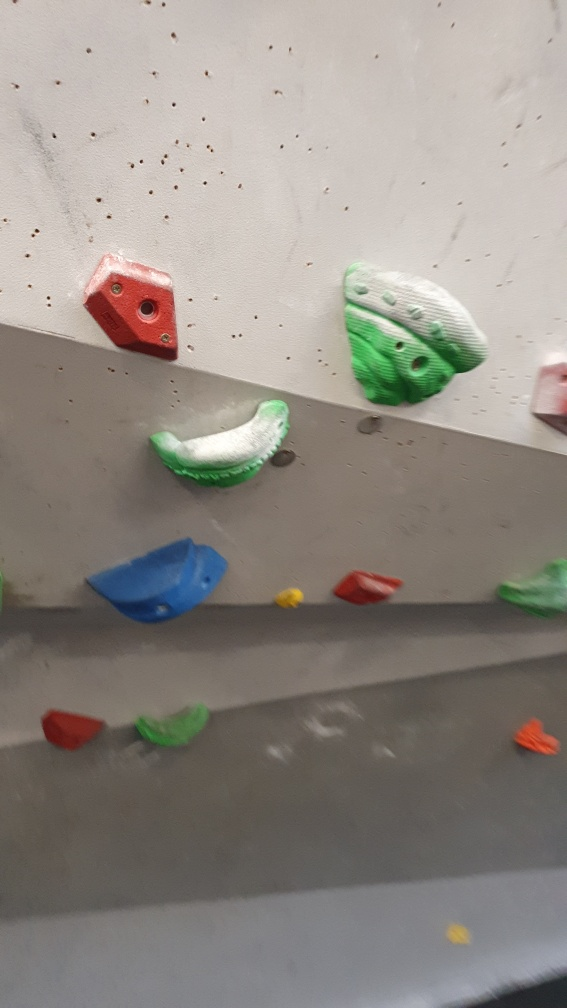Crimp: (75, 246, 187, 363), (331, 560, 406, 610)
Hand Start: (345, 414, 391, 443), (261, 443, 301, 473)
Jug: (338, 256, 488, 407), (146, 396, 292, 492), (130, 691, 211, 750)
Pinch: (87, 539, 234, 622)
